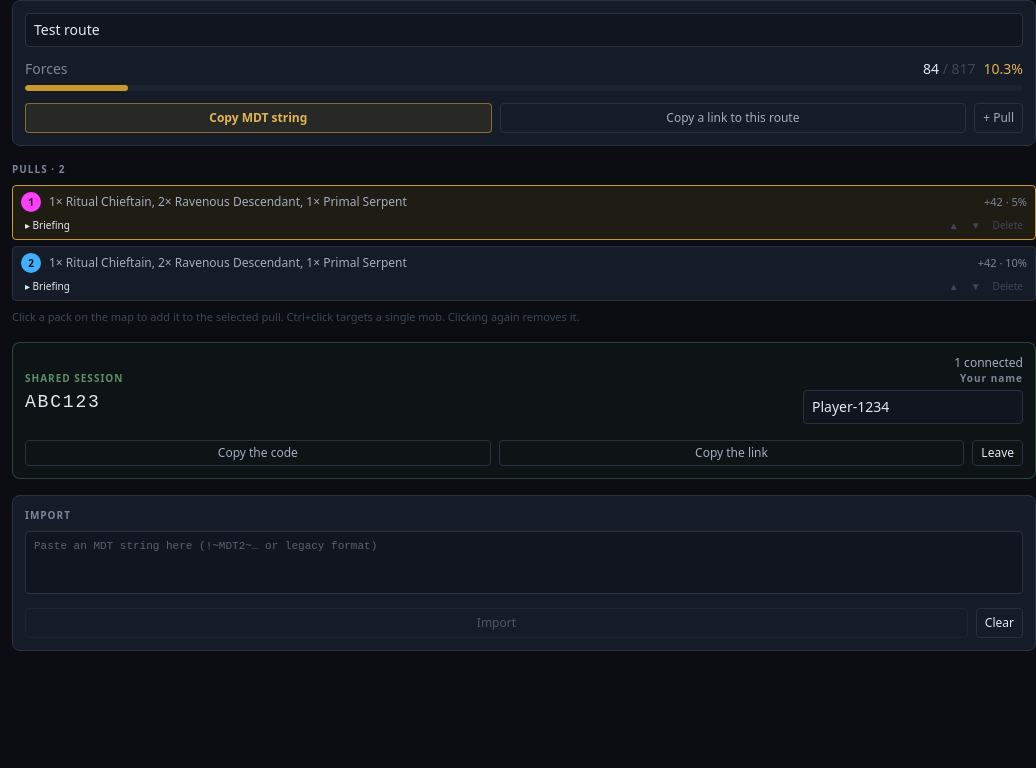
Test: An invitation carried by a link › reports a refused clipboard write instead of leaving it an unhandled rejection
Click the button "Copy the link": (732, 452) [499, 440, 964, 466]
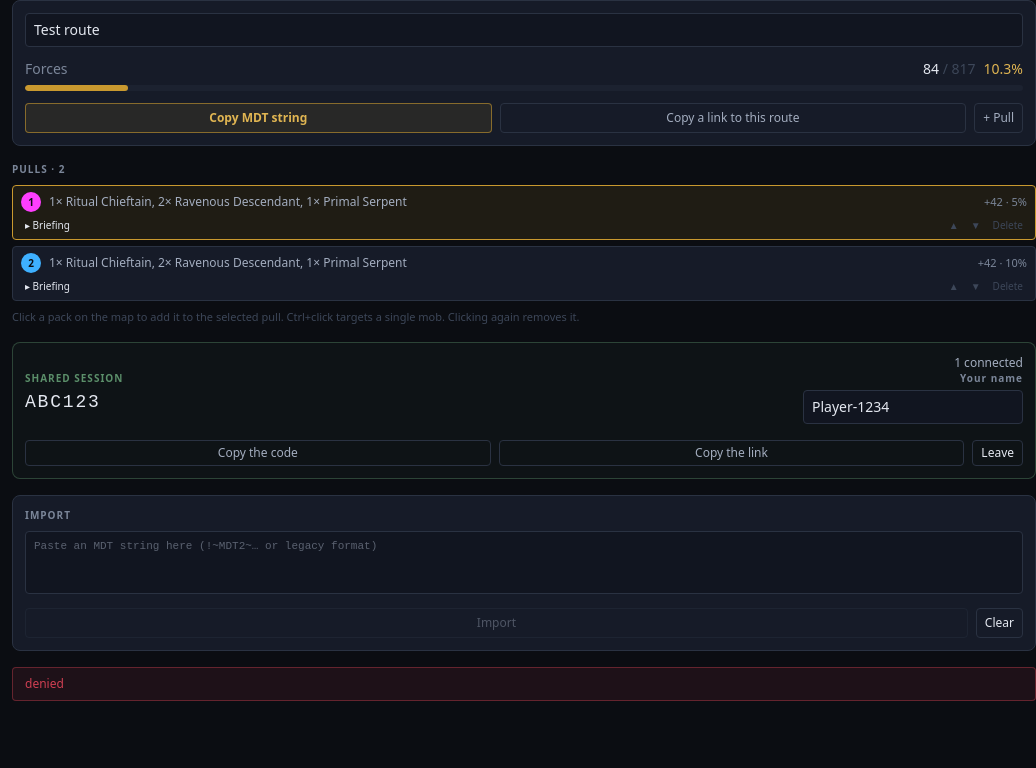
Now the text "denied" is shown, box [12, 667, 1035, 701]
